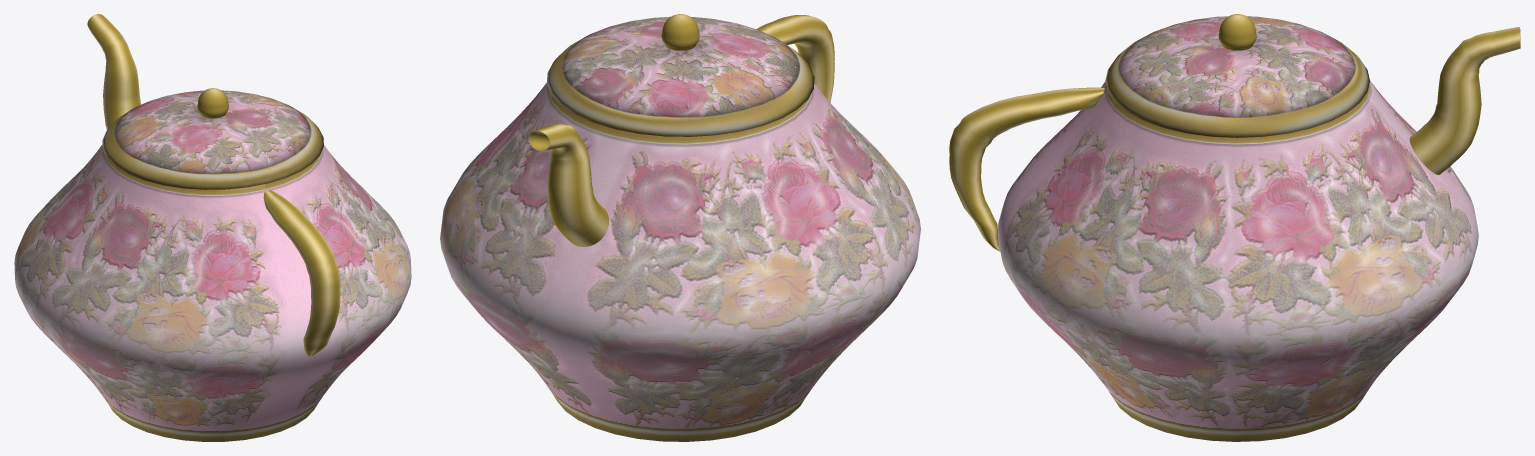
File: tea.obj
3 renders of one model, left to right at view 1: azimuth 30°, elevation 25°; view 2: azimuth 150°, elevation 25°; view 3: azimuth 270°, elevation 25°, orthographic. The views are drawn at different scales.
Parts seen in each view (by area): view 1: teapot; view 2: teapot; view 3: teapot.
Part boxes in pixels (x1=…): teapot: x1=14, y1=14, x2=411, y2=441; teapot: x1=440, y1=14, x2=920, y2=441; teapot: x1=949, y1=14, x2=1520, y2=441.
Bounding box in the file's own units: 13.08 × 11.17 × 15.52.
1 material, 1 textured.
